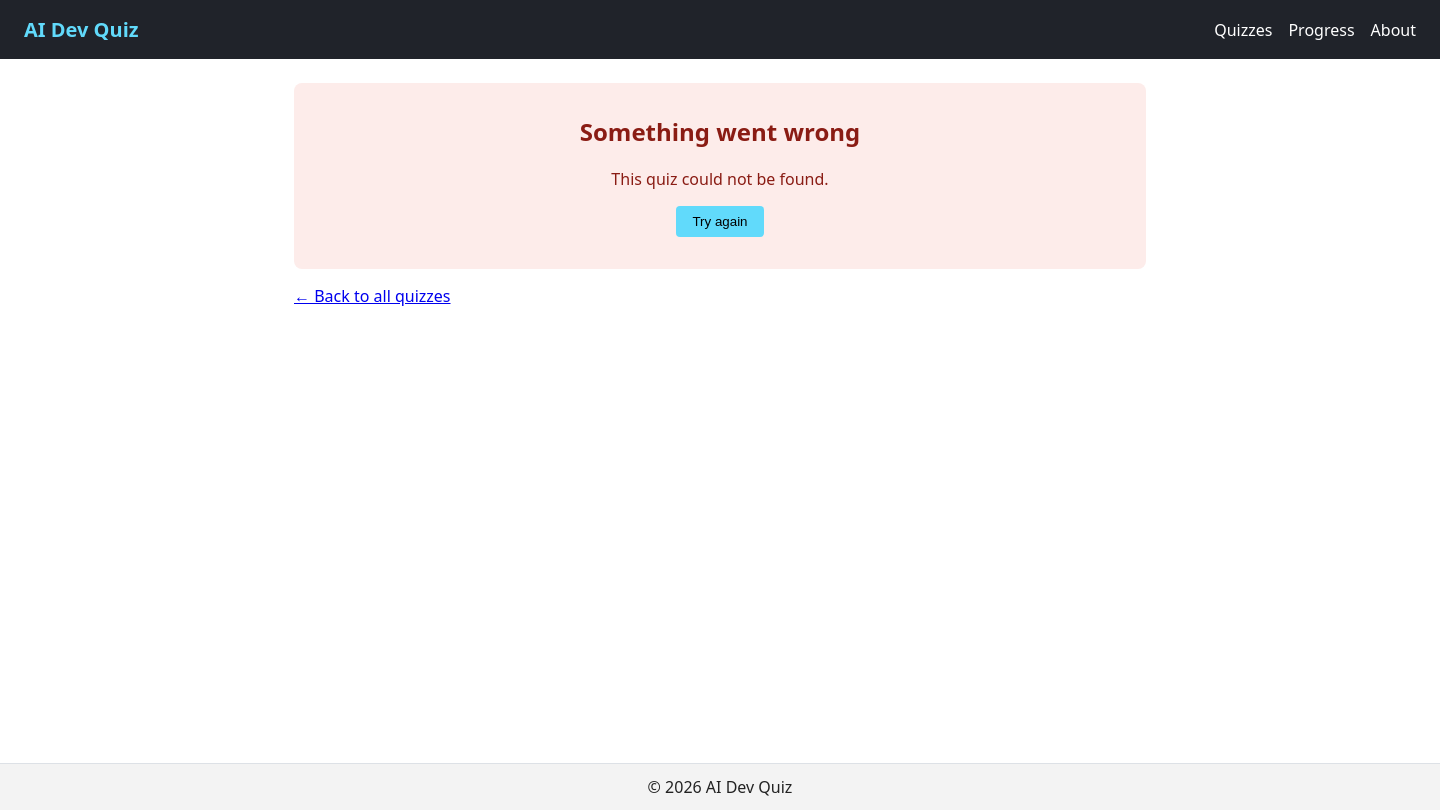
Test case: Quiz flow › shows an error with a back link when the quiz fails to load, and retries
This screenshot has width=1440, height=810.
Check: the message shows "could not be found", box [611, 168, 829, 190]
Check: the link "← Back to all quizzes" is shown, box [294, 285, 450, 307]
What coordinates should you click on to do the following:
click the button "Try again"
I would click on:
 (720, 221)
Its box is [676, 206, 764, 237].
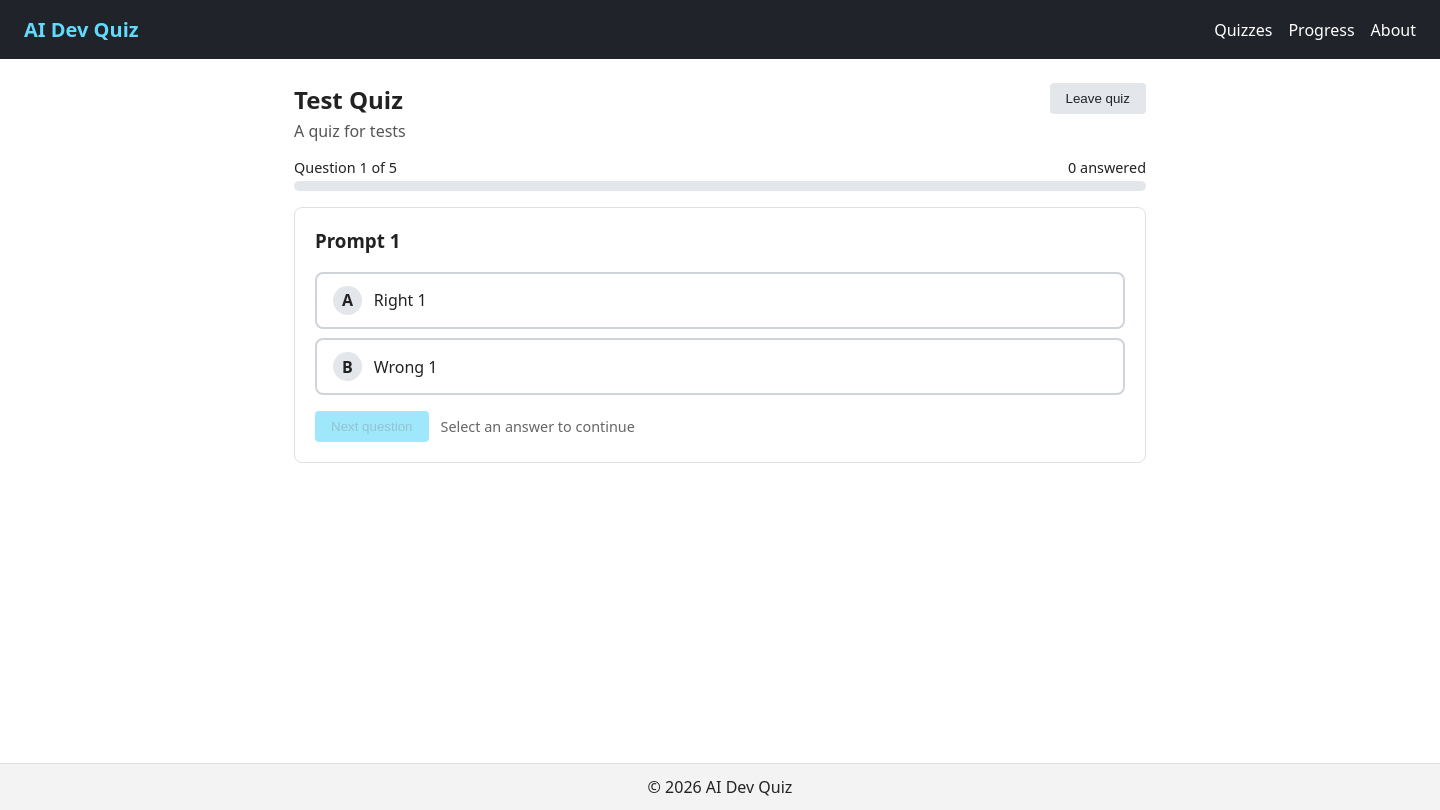
Check: the heading "Test Quiz" is shown, box [294, 83, 406, 116]
